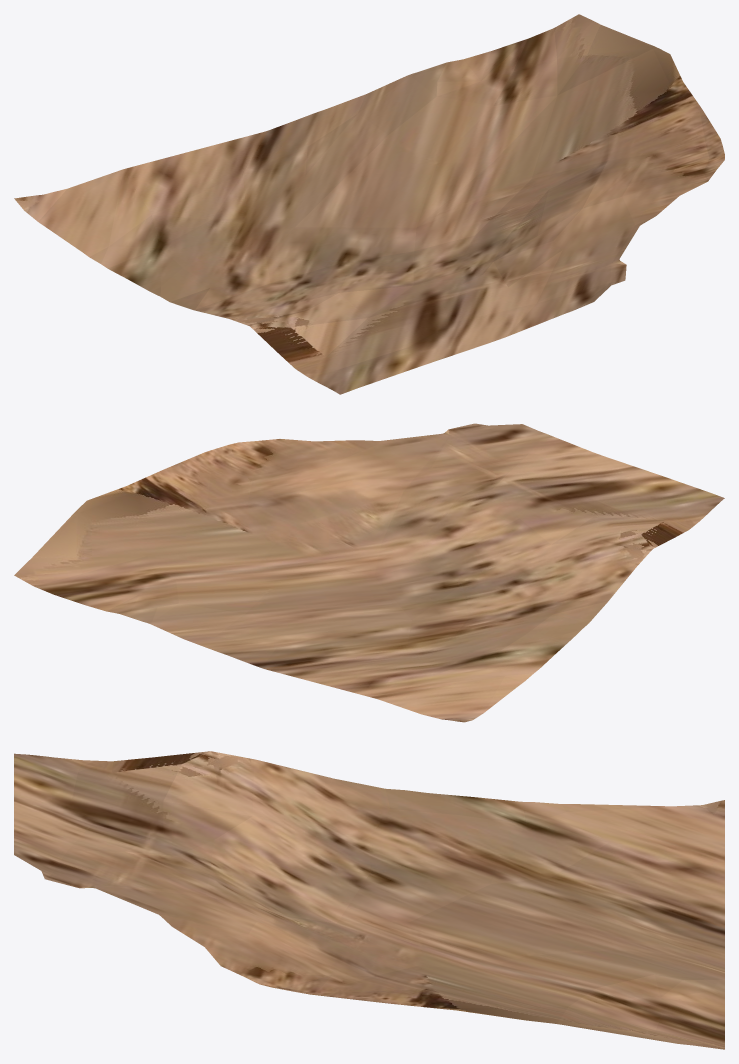
3 views of the same model, one above another, from view 1: azimuth 30°, elevation 25°; view 2: azimuth 150°, elevation 25°; view 3: azimuth 270°, elevation 25° (orthographic). The views are drawn at different scales.
Size of the model in its own units: 1.04 by 0.1399 by 1.04.
2 materials, 2 textured.
